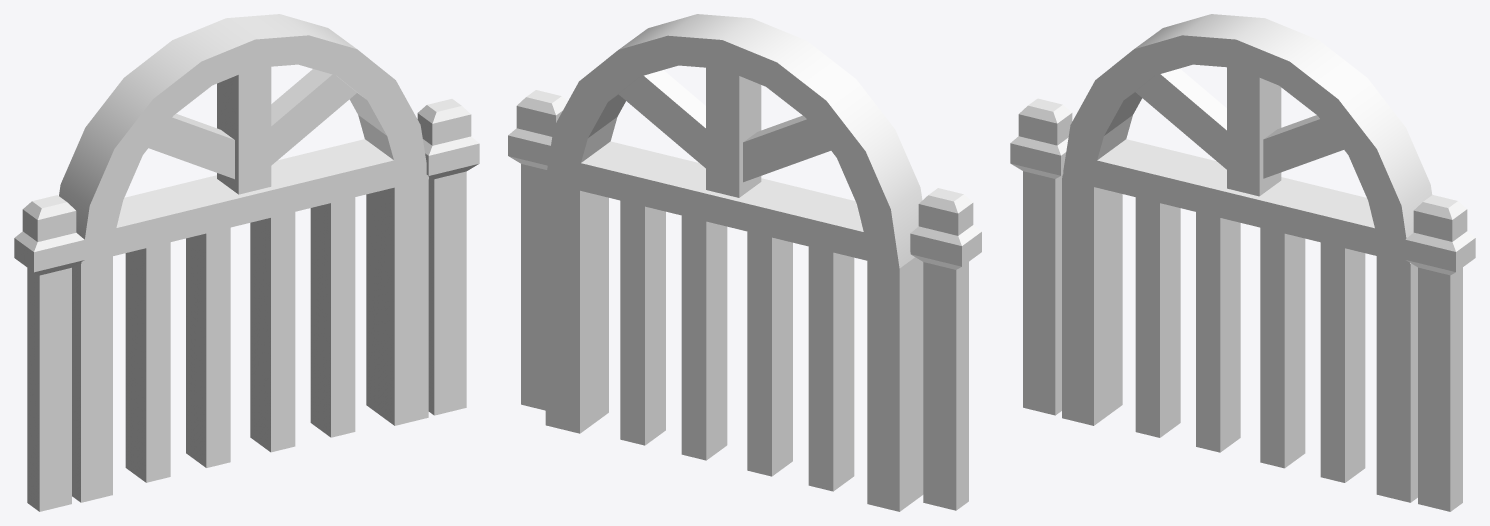
Rendered from men.fbx.
The picture shows the model from 3 angles, left to right: view 1: azimuth 30°, elevation 25°; view 2: azimuth 150°, elevation 25°; view 3: azimuth 330°, elevation 25°; orthographic projection.
Parts seen in each view (by area): view 1: men; view 2: men; view 3: men.
Boxes of the visible parts, box(x1,y1,x2,y2) form: men: box(14, 14, 479, 511); men: box(508, 14, 981, 511); men: box(1010, 14, 1475, 511).
Size of the model in its own units: 626 by 565 by 76.29.
